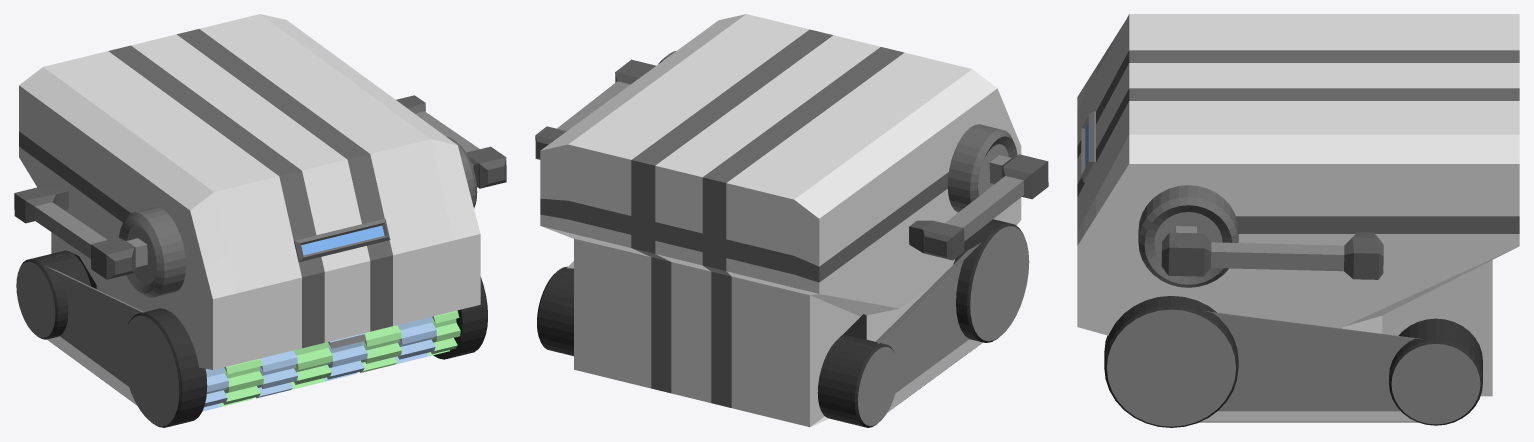
File: rombu.fbx
3 views of the same model, side by side, from view 1: azimuth 30°, elevation 25°; view 2: azimuth 150°, elevation 25°; view 3: azimuth 270°, elevation 25° (orthographic). The views are drawn at different scales.
Parts seen in each view (by area): view 1: Cube, Cube.001; view 2: Cube, Cube.001; view 3: Cube, Cube.001.
Boxes of the visible parts, x1,y1,x2,y2 form: Cube: (16,14,487,427); Cube.001: (14,95,506,279); Cube: (537,14,1029,427); Cube.001: (535,59,1048,260); Cube: (1077,14,1519,427); Cube.001: (1161,226,1383,279).
Bounding box in the file's own units: 299 × 168 × 251.
